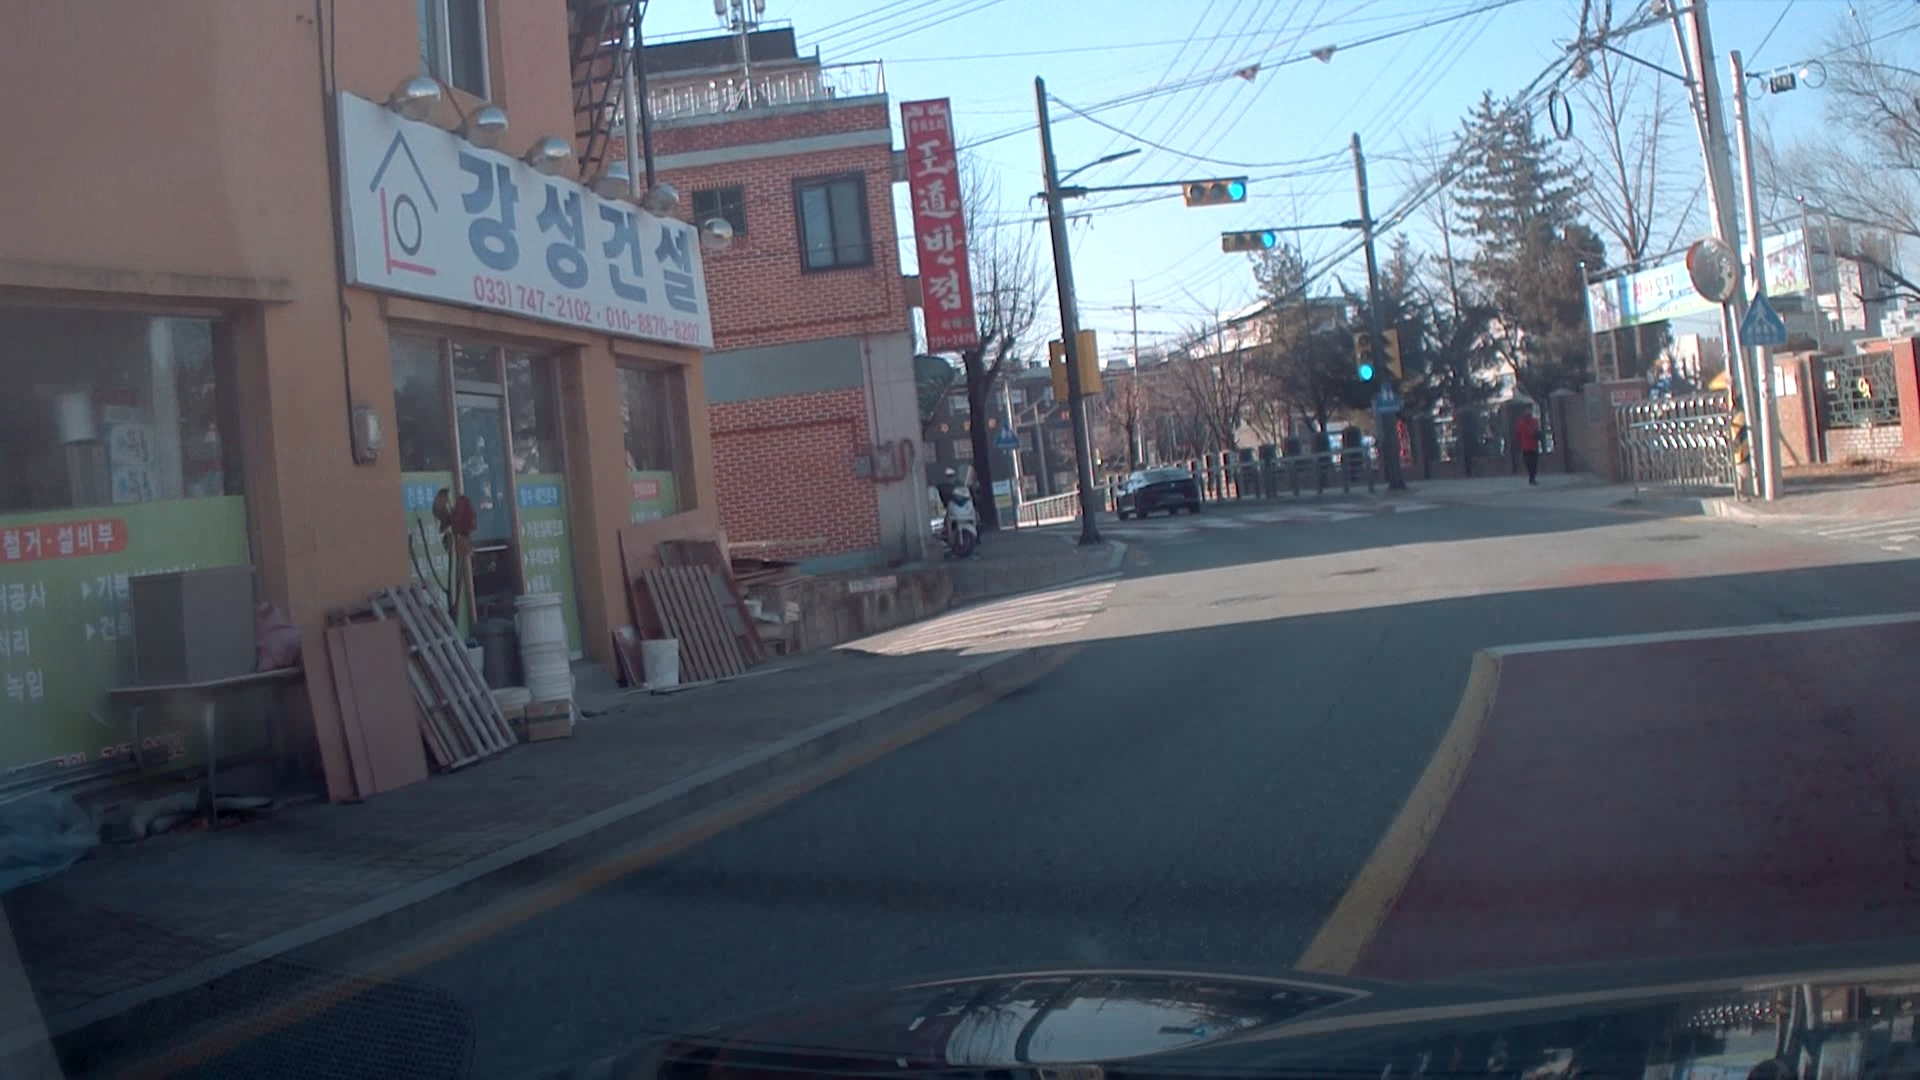trafficLight: (1178, 171, 1249, 208), (1221, 231, 1276, 253)
